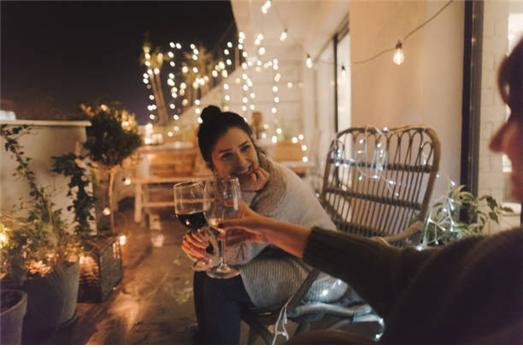alcohol: (173, 180, 221, 272), (203, 178, 243, 279)
